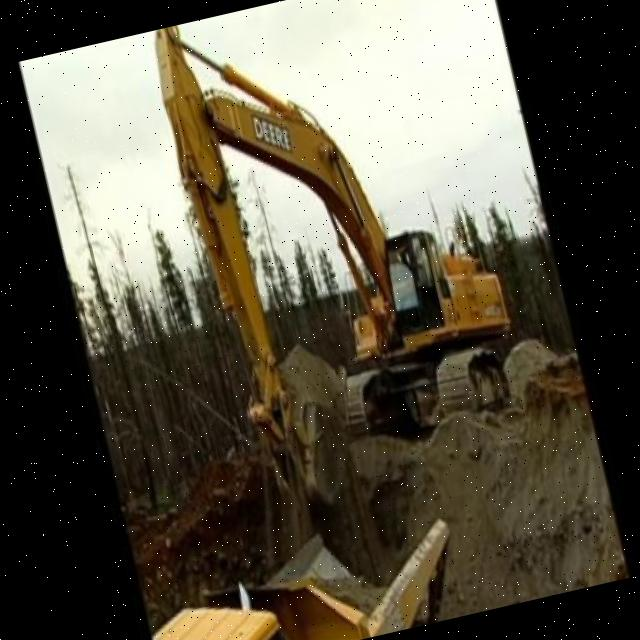Dump Truck: (137, 503, 471, 640)
Excavator: (123, 0, 551, 539)
